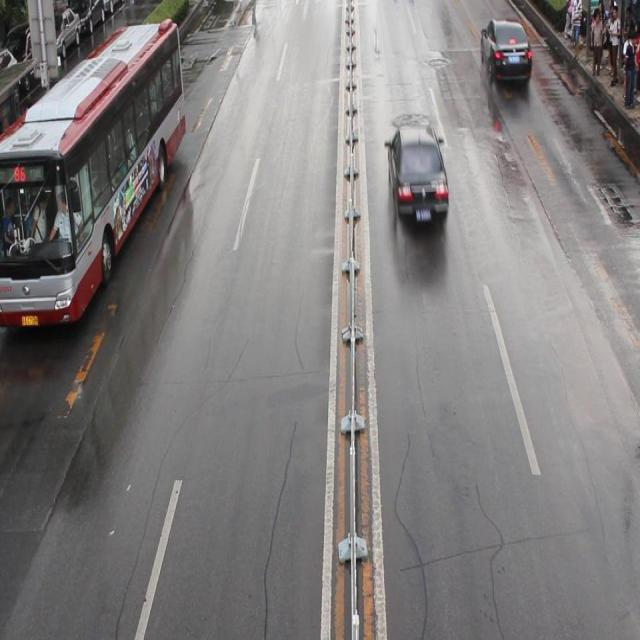car: (387, 125, 448, 228), (479, 19, 531, 84)
van: (1, 17, 186, 321)
